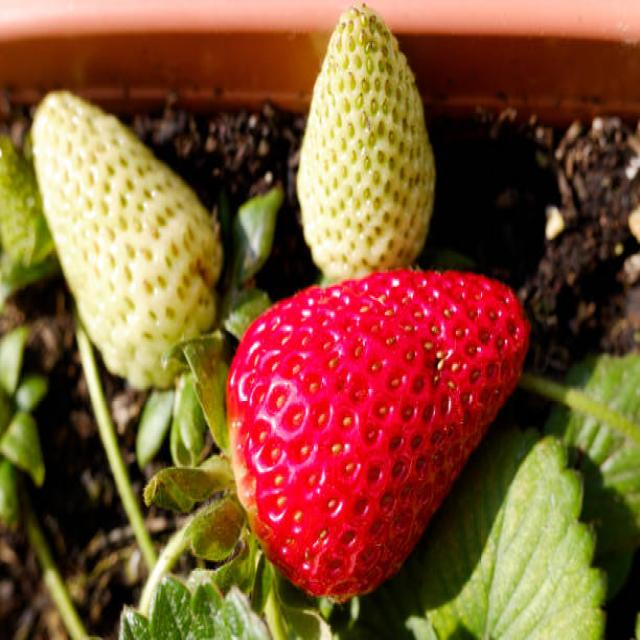Healthy Fruit: (226, 268, 530, 598), (30, 92, 223, 387), (297, 5, 437, 284)
